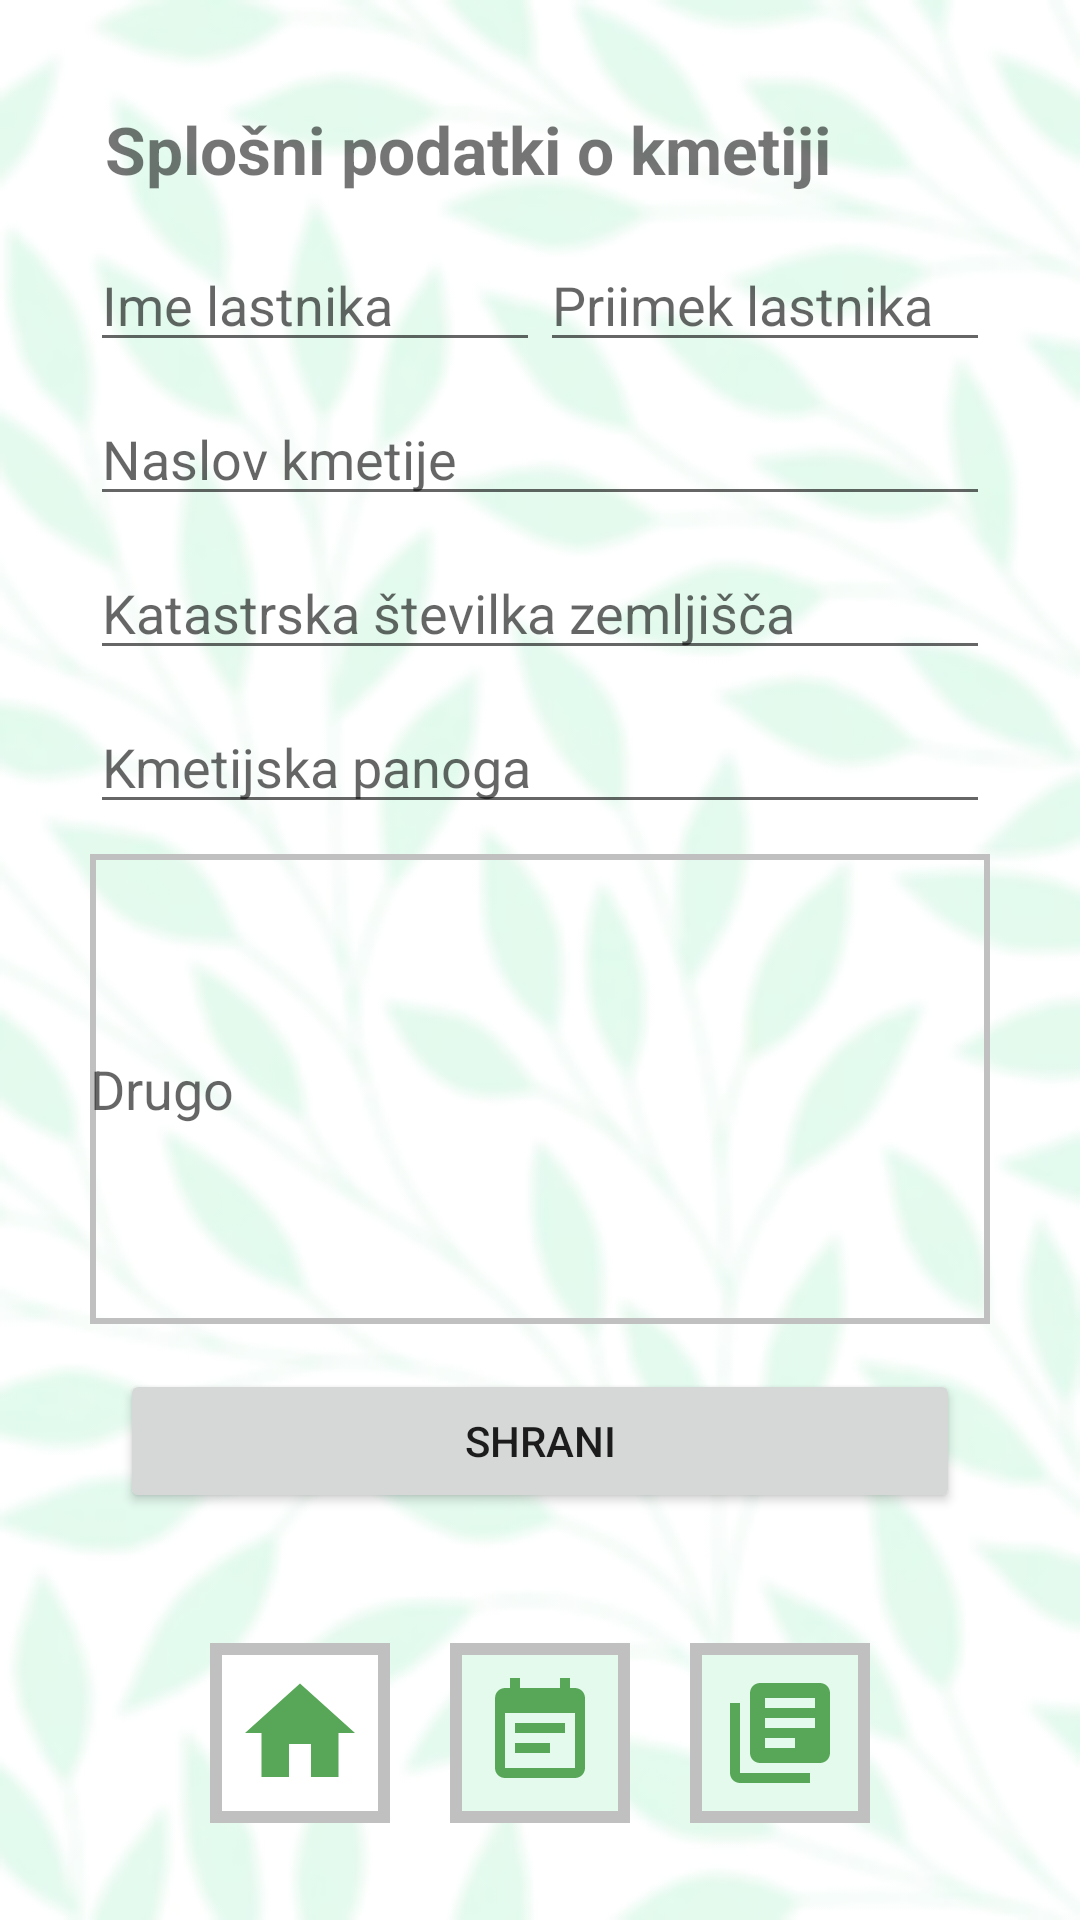

Locate icon controls on the screen. Image size 1080*1920, boxes as (x1, y1, x2, y2).
event note: (450, 1643, 630, 1823)
home: (210, 1643, 390, 1823)
library books: (690, 1643, 870, 1823)
